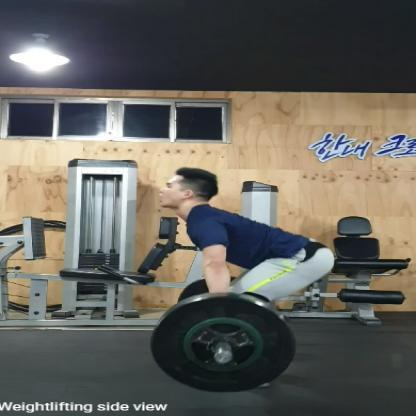barbell: (148, 277, 298, 395)
